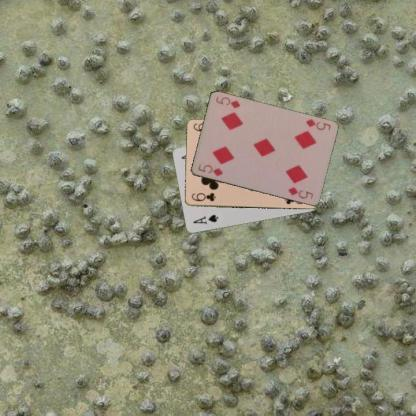5d: (302, 116, 332, 132), (195, 162, 224, 178)
6c: (189, 190, 217, 203)
As: (190, 212, 219, 226)
